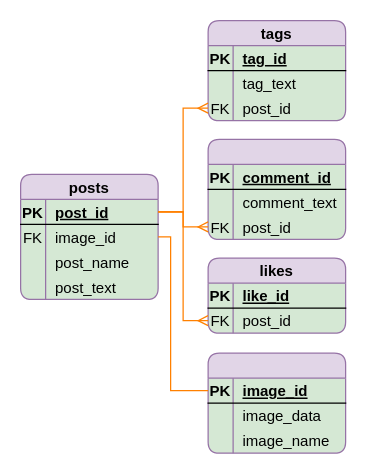
This 366x474 diagram has some shape labels left out. The box of each missing label's shape, as (x1, y1, x2, y2) in pixels:
comments: (207, 138, 346, 239)
images: (207, 352, 346, 453)
